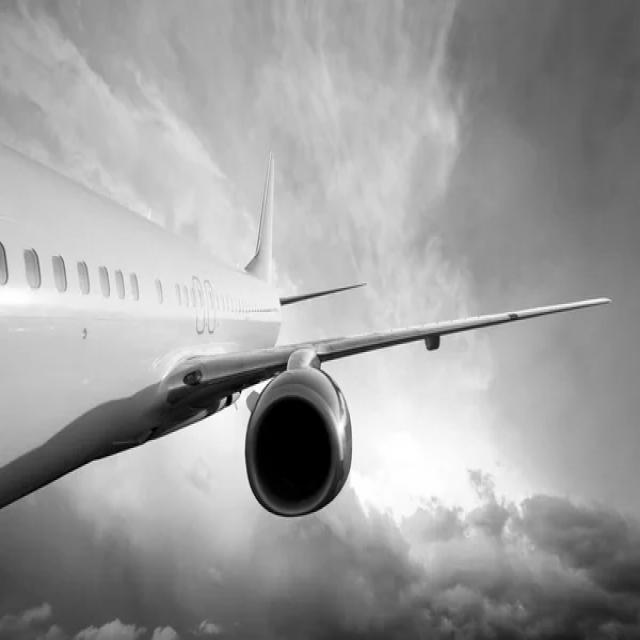Aircraft: (0, 132, 529, 534)
